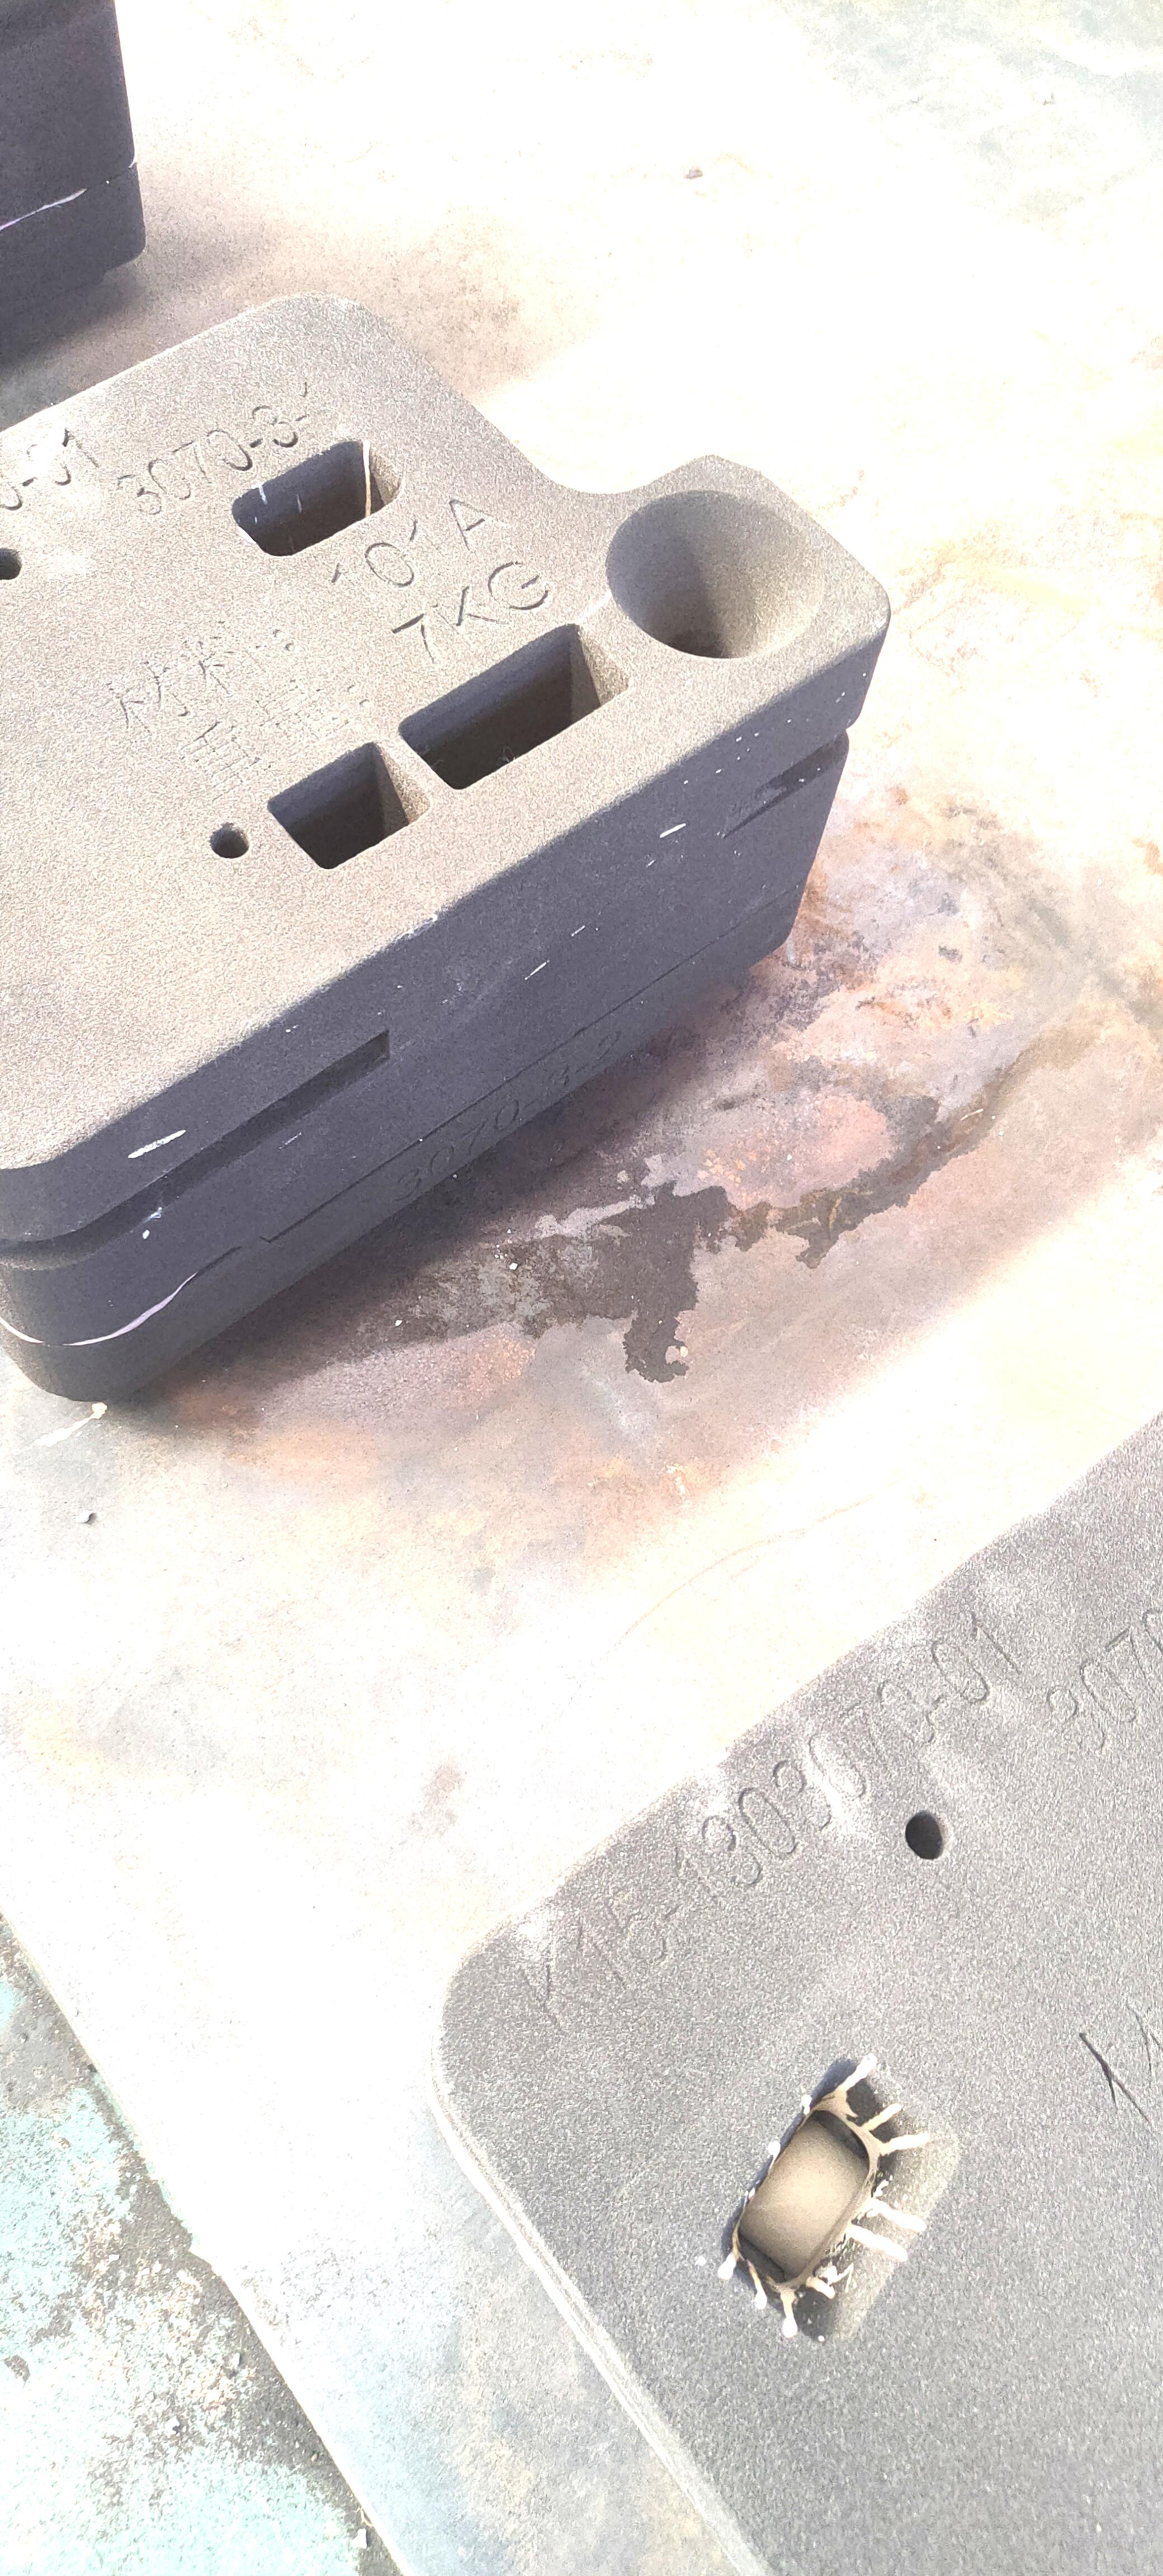pouring hole: (606, 490, 820, 659)
